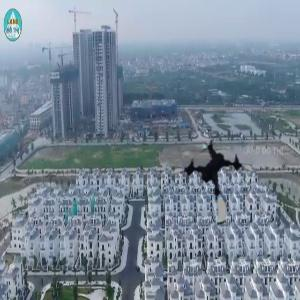drone: (169, 138, 258, 227)
